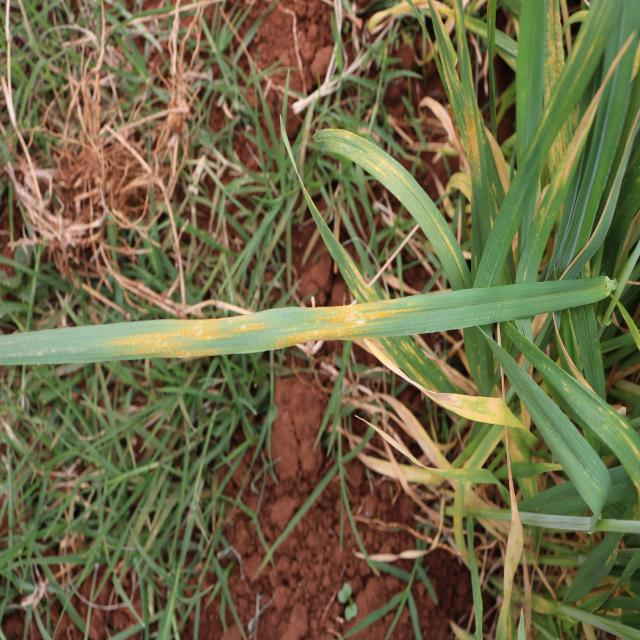Stripe Rust: (269, 296, 425, 351), (112, 311, 266, 360)
